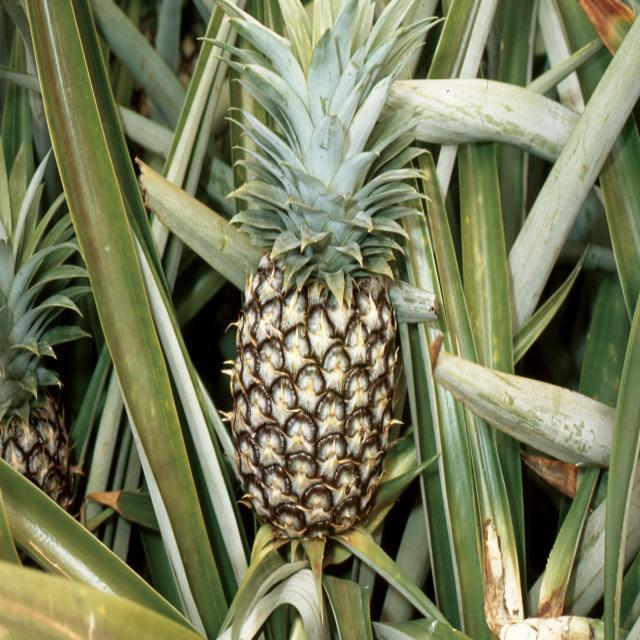PINEAPLE: (245, 74, 395, 539)
